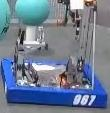blue_number: (70, 93, 98, 107)
